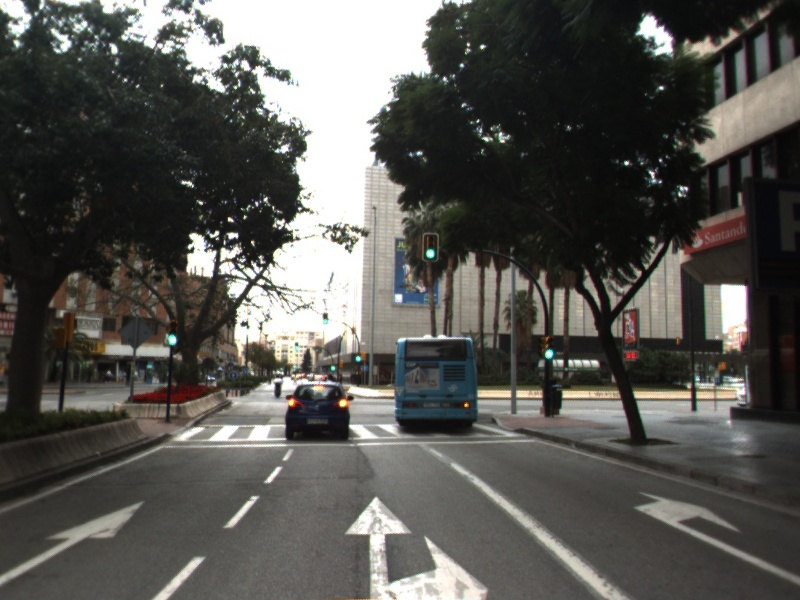RIGHT: (631, 486, 800, 586)
STRAIGHT: (1, 496, 150, 586)
STRAIGHT_RIGHT: (340, 492, 492, 600)
